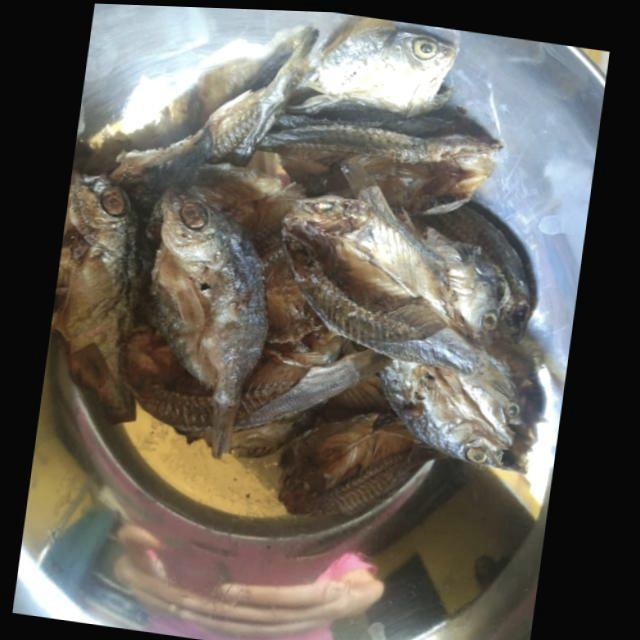left_over_food: (107, 24, 318, 201), (282, 182, 479, 370), (231, 244, 394, 455), (146, 184, 270, 456), (257, 107, 503, 211), (52, 167, 141, 423), (379, 337, 539, 469), (280, 404, 439, 513), (287, 13, 457, 112), (417, 197, 536, 334), (120, 331, 218, 443)
